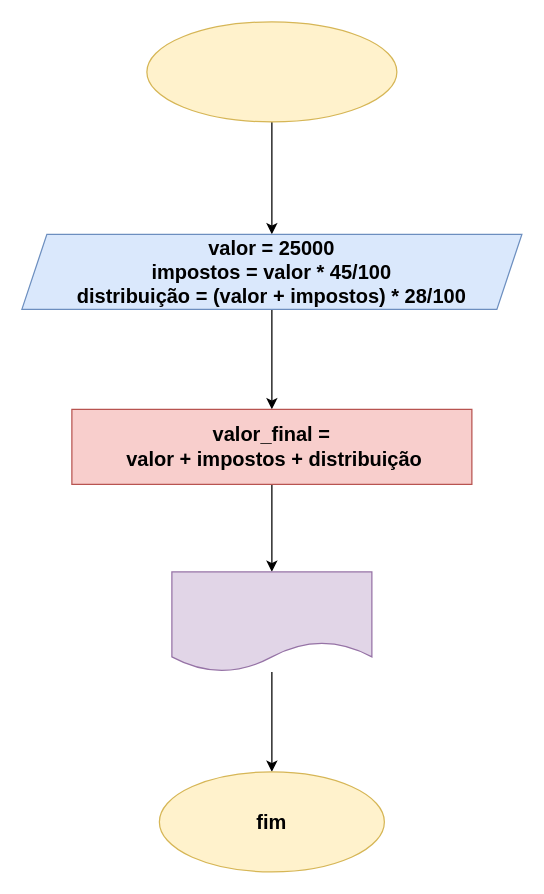
Image size: 544x894. Some labels were removed from this diagram. Each missing label, with the box of its shape:
inicio: (146, 21, 397, 122)
valor_final: (171, 571, 372, 672)
